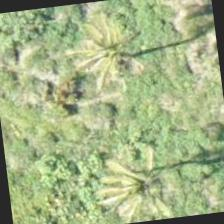Kelapa_Sawit: (63, 0, 164, 98), (89, 138, 190, 223)
